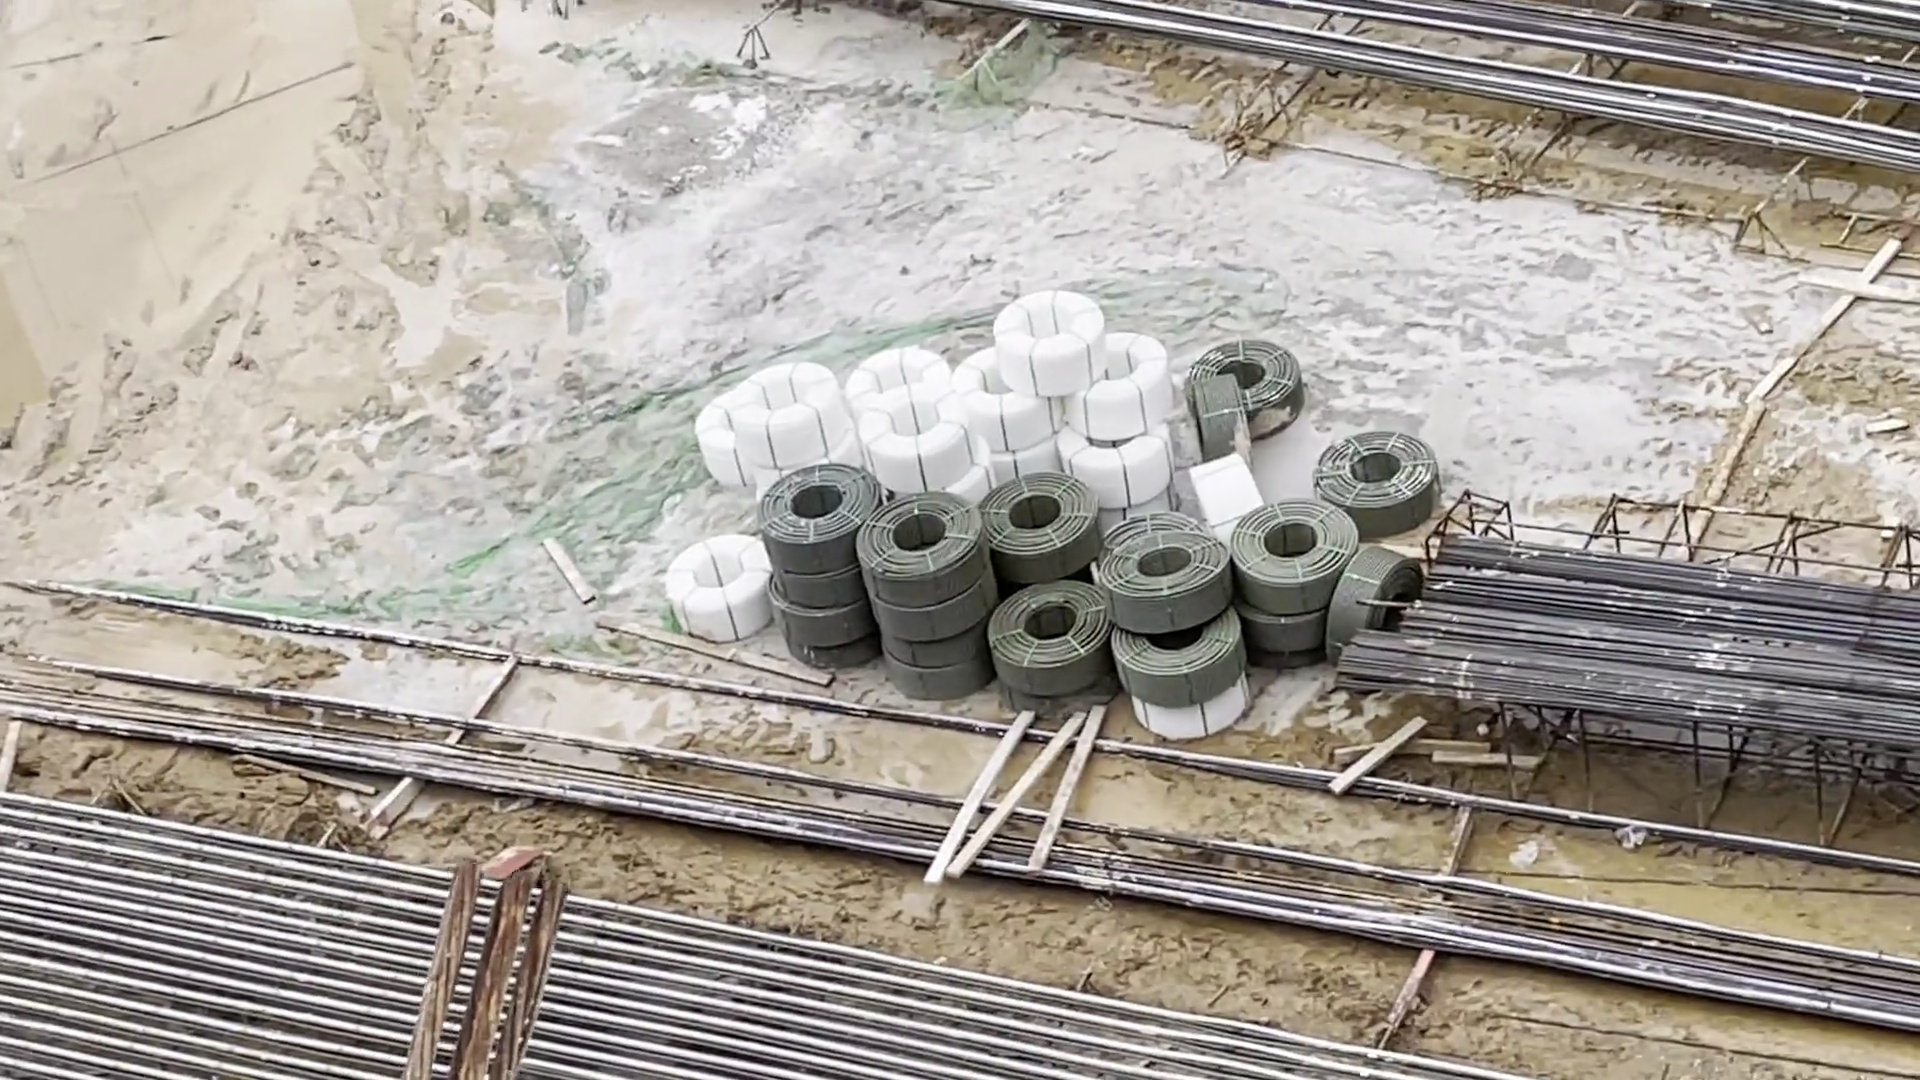rebar: (38, 785, 1269, 1080), (1331, 527, 1920, 721)
